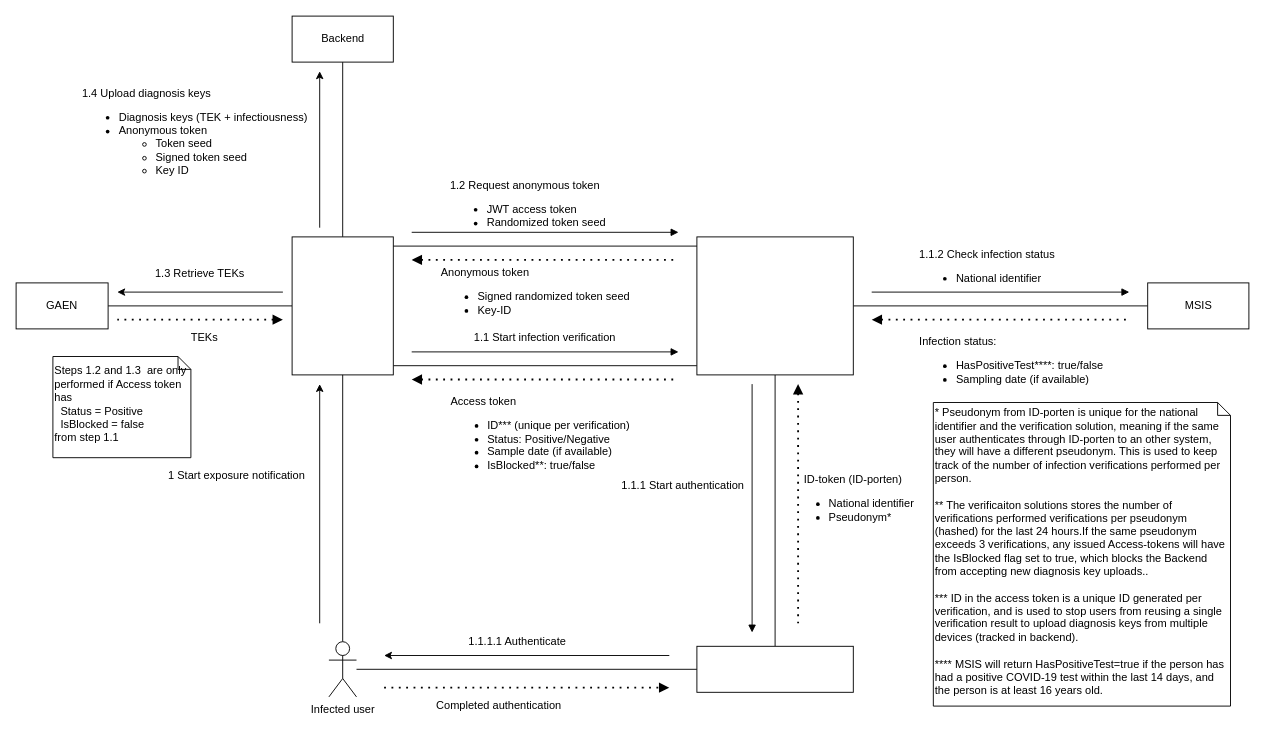
Image size: 1265x732. Some labels were removed from this diagram. Here are the shapes that lost their labels. From the top down, the centre of each, then its label:
(x=342, y=305): App
(x=774, y=305): Verification solution
(x=774, y=668): ID-porten
